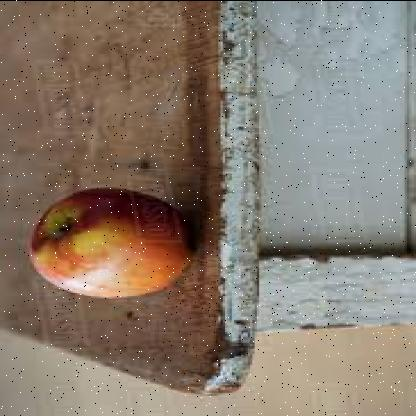apple: (34, 186, 191, 297)
